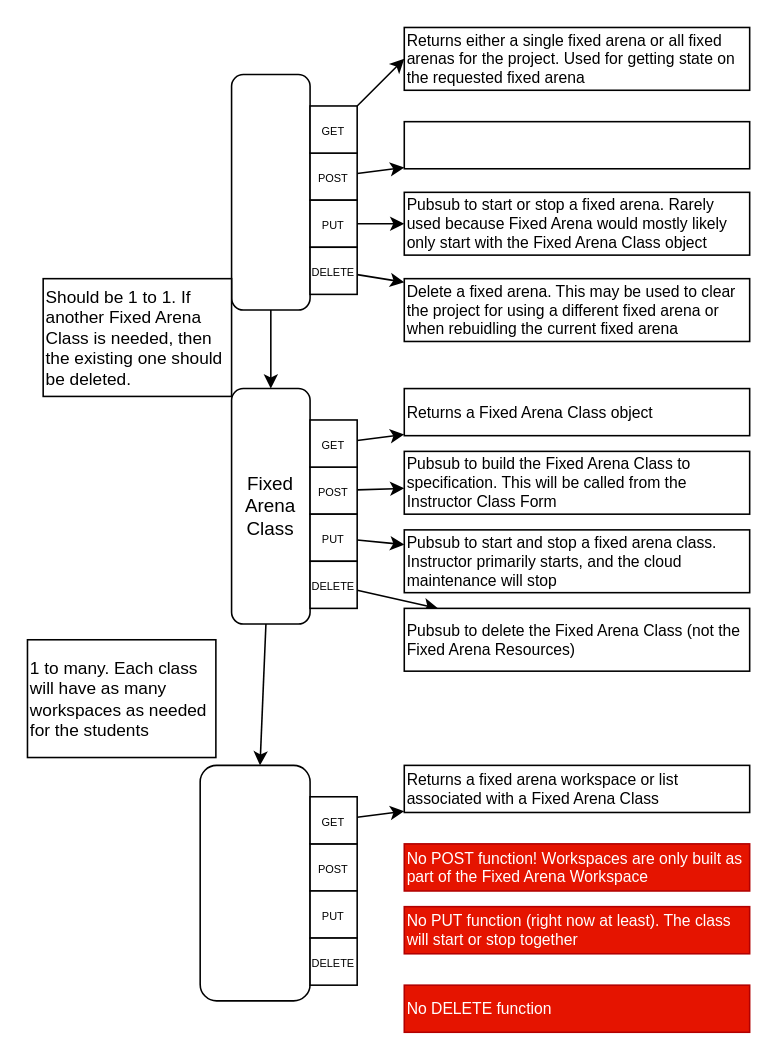
Image size: 777x1060. Some labels were removed from this diagram. Each missing label, with the centre of its shape:
"Fixed Arena" goes at [270,191].
"Fixed Arena Workspace" goes at [254,882].
"Pubsub to build a new fixed arena. Only called once or use when rebuilding" goes at [576,144].
